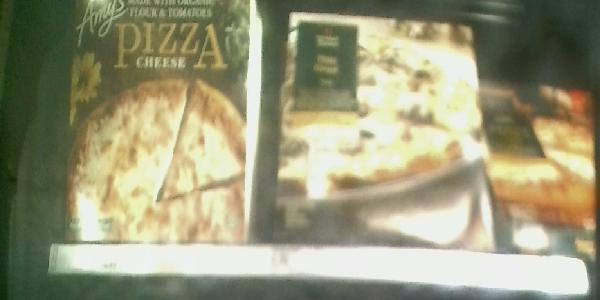pizza1: (282, 9, 500, 245), (67, 1, 249, 239)
